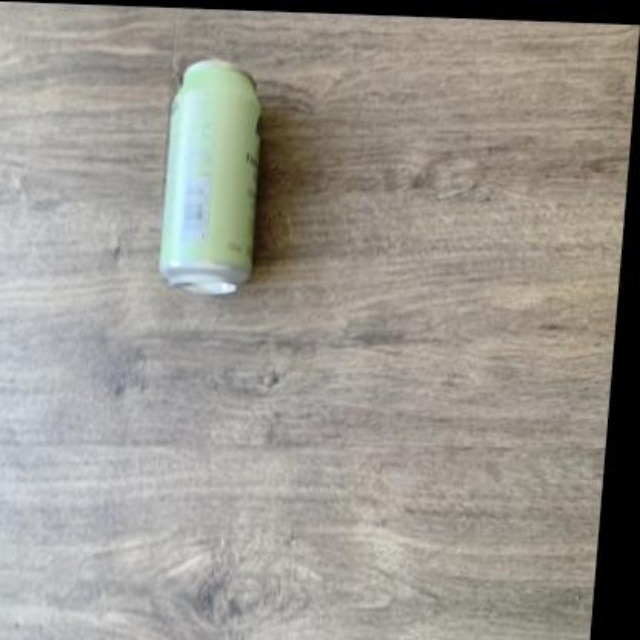trash: (160, 60, 258, 294)
